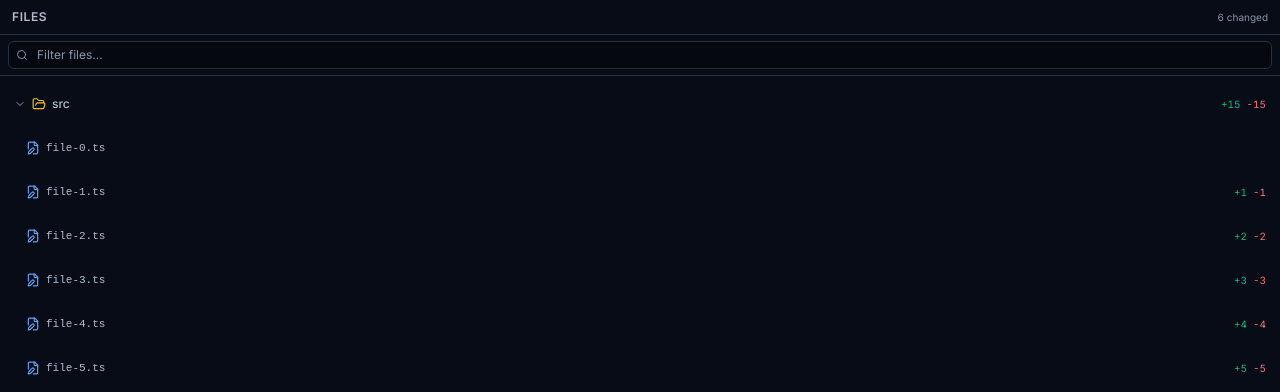
Scenario: FileTree › Search Filter › should show clear button when filter has text
The width and height of the screenshot is (1280, 392).
Step 1. Type "test" into the field with placeholder "Filter files..." → (640, 55), box [8,41,1272,69]
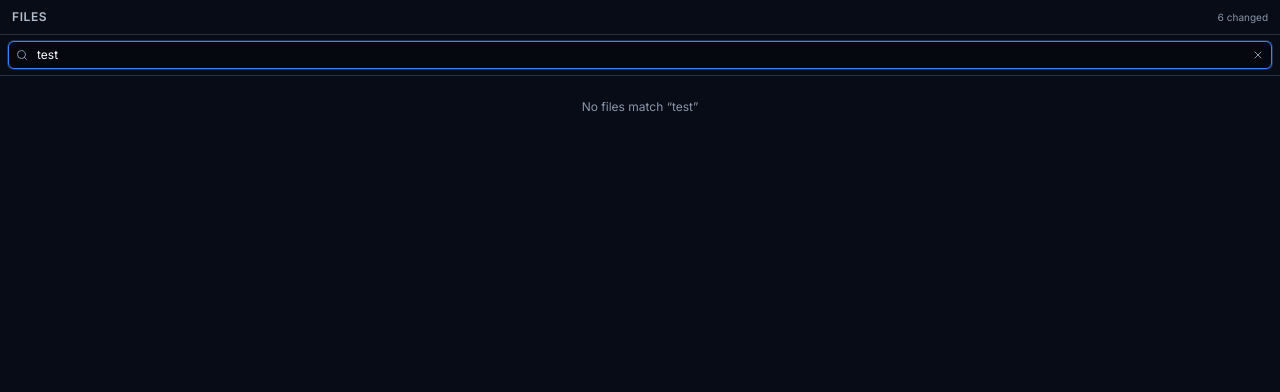
Expected: the button is shown, [1250,33,1266,77]
